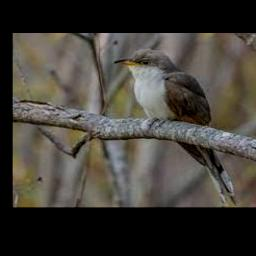Cuckoo: (112, 48, 239, 205)
